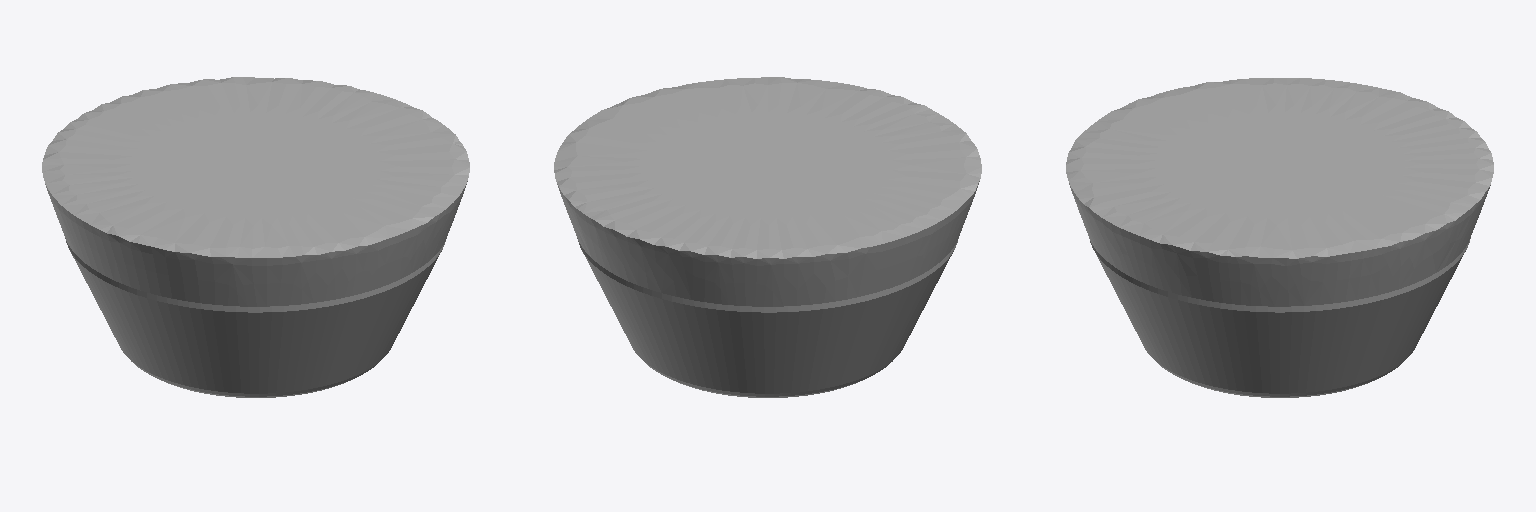
Rendered from potdecreme.obj.
The picture shows the model from 3 angles: view 1: azimuth 30°, elevation 25°; view 2: azimuth 150°, elevation 25°; view 3: azimuth 270°, elevation 25°; orthographic projection.
Visible parts, largest first — view 1: Plane.001, Plane; view 2: Plane.001, Plane; view 3: Plane.001, Plane.
Boxes of the visible parts, x1,y1,x2,y2 form: Plane.001: [42, 77, 469, 306]; Plane: [65, 238, 445, 397]; Plane.001: [554, 77, 981, 306]; Plane: [577, 238, 958, 397]; Plane.001: [1066, 78, 1493, 306]; Plane: [1090, 238, 1470, 397].
Size of the model in its own units: 5.79 by 2.71 by 5.8.